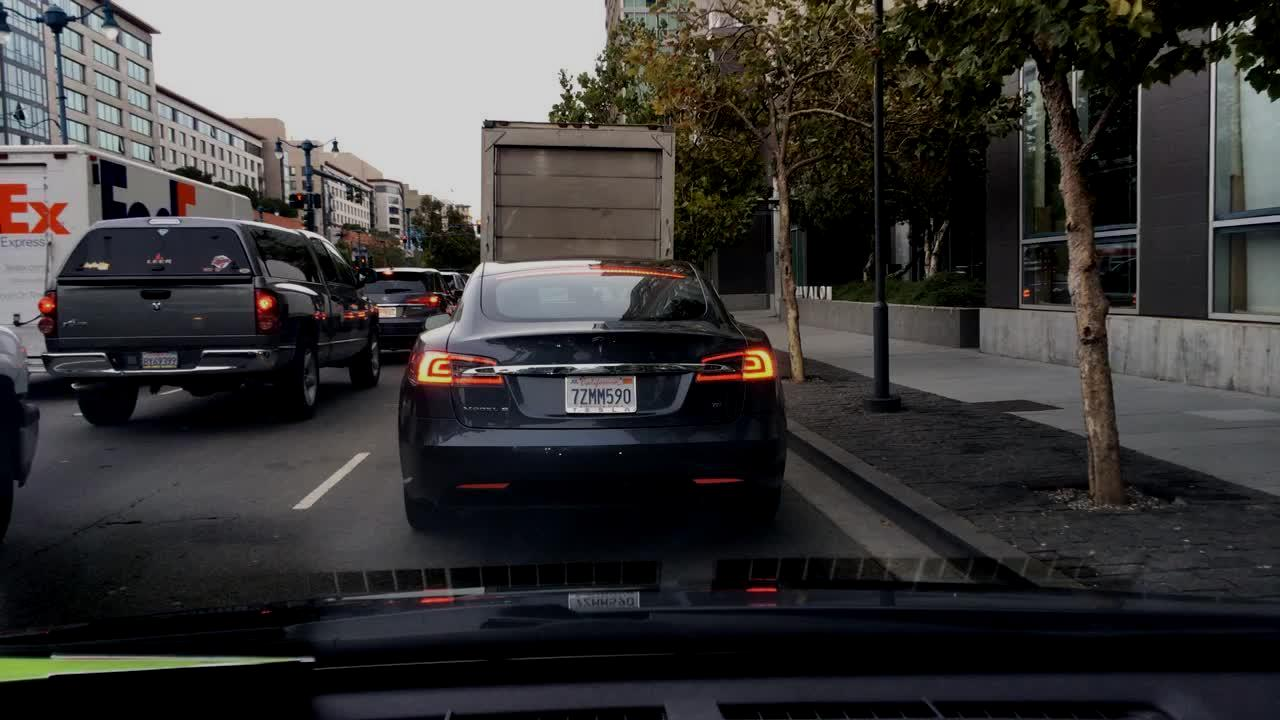ram: (151, 299, 165, 314)
